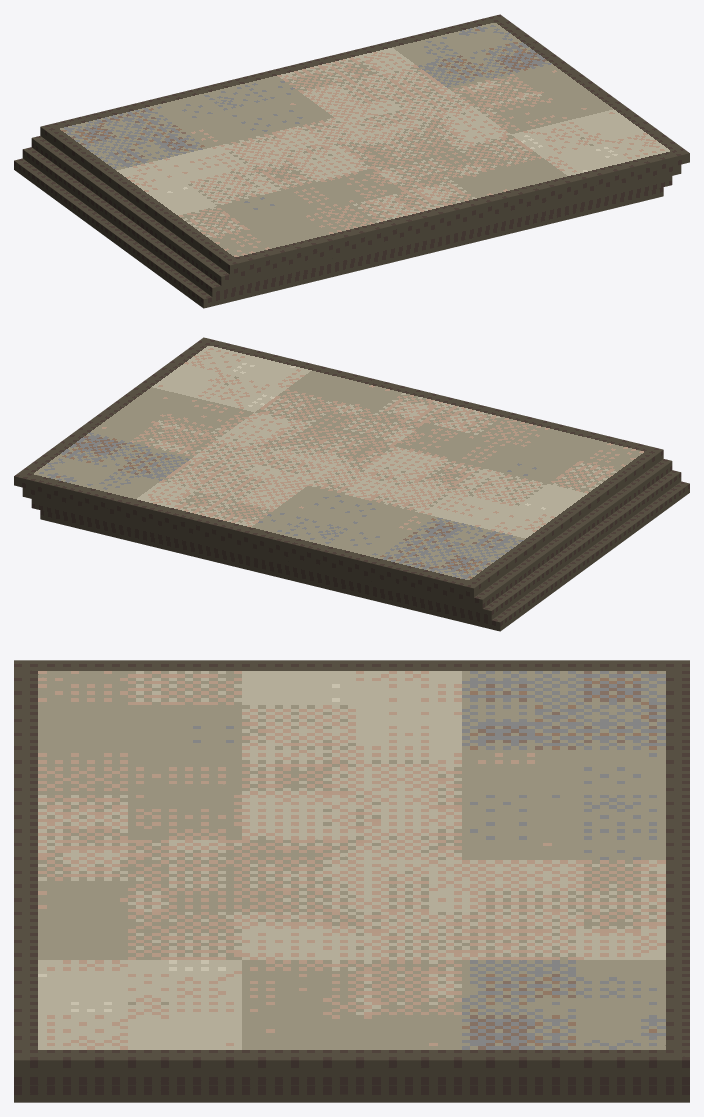
Rendered from SM_Papers_01.glb.
The picture shows the model from 3 angles, top to bottom: view 1: azimuth 30°, elevation 25°; view 2: azimuth 150°, elevation 25°; view 3: azimuth 270°, elevation 25°; orthographic projection. The views are drawn at different scales.
Parts seen in each view (by area): view 1: SM_Papers_01; view 2: SM_Papers_01; view 3: SM_Papers_01.
Part boxes in pixels (box(x1,y1,x2,y2)): SM_Papers_01: box(14, 14, 689, 308); SM_Papers_01: box(14, 337, 689, 631); SM_Papers_01: box(14, 660, 689, 1102).
Size of the model in its own units: 0.222 by 0.016 by 0.15.
Materials: 1 (1 with a texture image).
